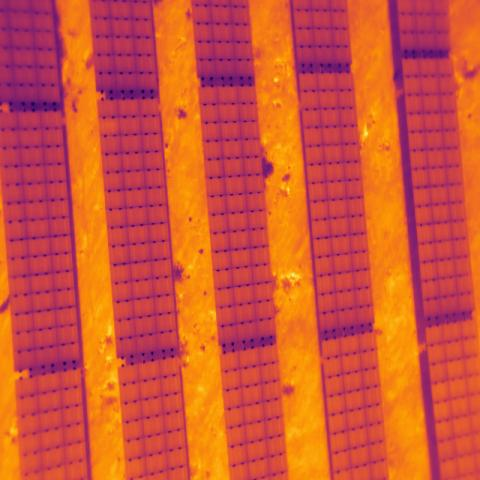fault: (190, 59, 209, 78)
